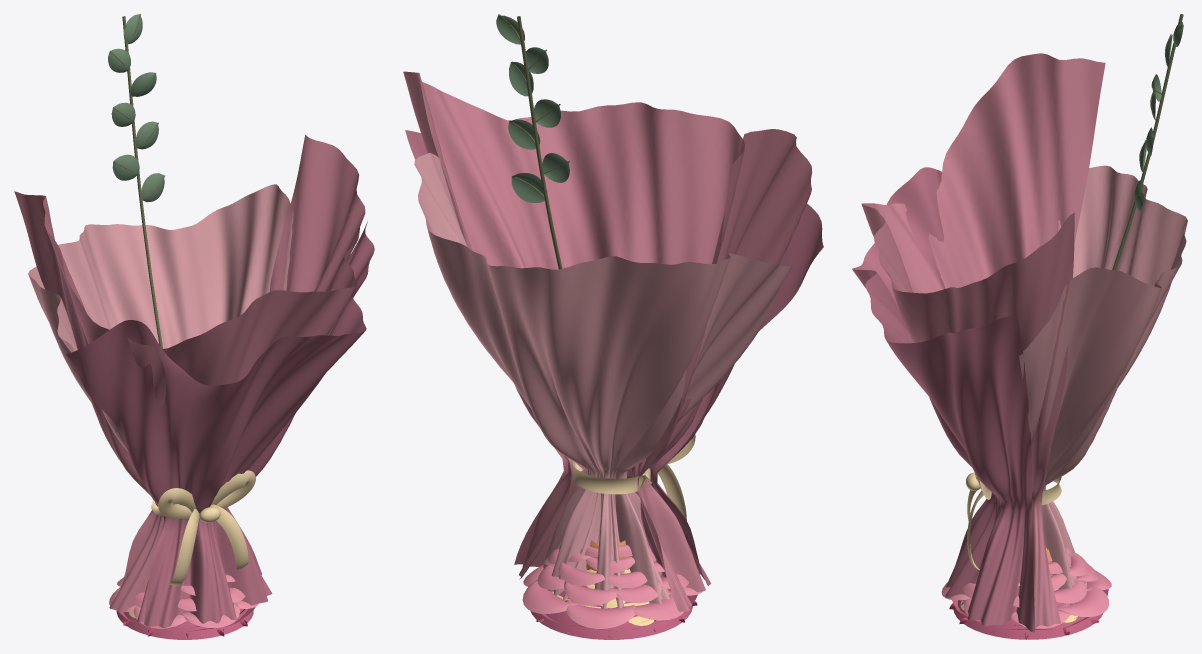
The model's file is bouquet.glb.
The picture shows the model from 3 angles, left to right: view 1: azimuth 30°, elevation 25°; view 2: azimuth 150°, elevation 25°; view 3: azimuth 270°, elevation 25°; orthographic projection. The views are drawn at different scales.
Visible parts, largest first — view 1: GEO · Розовый отворот.001, GEO · Передний лист бумаги.001, GEO · Задний лист бумаги.001, petals-rose, GEO · Эвкалипт 05 · ветка.001, GEO · Петля банта -1.001, GEO · Петля банта +1.001, GEO · Лента -1.001, GEO · Лента +1.001, GEO · Эвкалипт 05 · лист 2.001, GEO · Эвкалипт 05 · лист 1.001; view 2: GEO · Передний лист бумаги.001, GEO · Задний лист бумаги.001, petals-rose, GEO · Розовый отворот.001, GEO · Атлас вокруг стеблей.001, GEO · Эвкалипт 05 · ветка.001, GEO · Эвкалипт 05 · лист 1.001, GEO · Эвкалипт 05 · лист 3.001, GEO · Лента -1.001, GEO · Эвкалипт 05 · лист 2.001, GEO · Эвкалипт 05 · лист 4.001; view 3: GEO · Передний лист бумаги.001, GEO · Розовый отворот.001, GEO · Задний лист бумаги.001, petals-rose, GEO · Эвкалипт 05 · ветка.001.
Boxes of the visible parts, <box> form: GEO · Розовый отворот.001: <box>66,222,374,628</box>; GEO · Передний лист бумаги.001: <box>14,135,365,622</box>; GEO · Задний лист бумаги.001: <box>28,184,293,451</box>; petals-rose: <box>109,574,258,639</box>; GEO · Эвкалипт 05 · ветка.001: <box>122,16,162,348</box>; GEO · Петля банта -1.001: <box>158,488,196,519</box>; GEO · Петля банта +1.001: <box>210,470,255,508</box>; GEO · Лента -1.001: <box>168,509,199,585</box>; GEO · Лента +1.001: <box>210,504,248,571</box>; GEO · Эвкалипт 05 · лист 2.001: <box>112,154,139,180</box>; GEO · Эвкалипт 05 · лист 1.001: <box>141,173,164,202</box>; GEO · Передний лист бумаги.001: <box>403,71,812,611</box>; GEO · Задний лист бумаги.001: <box>414,153,792,608</box>; petals-rose: <box>522,542,701,639</box>; GEO · Розовый отворот.001: <box>405,130,823,585</box>; GEO · Атлас вокруг стеблей.001: <box>572,460,652,494</box>; GEO · Эвкалипт 05 · ветка.001: <box>517,16,562,269</box>; GEO · Эвкалипт 05 · лист 1.001: <box>511,173,547,202</box>; GEO · Эвкалипт 05 · лист 3.001: <box>508,119,540,149</box>; GEO · Лента -1.001: <box>657,464,686,520</box>; GEO · Эвкалипт 05 · лист 2.001: <box>542,153,569,182</box>; GEO · Эвкалипт 05 · лист 4.001: <box>534,99,560,127</box>; GEO · Передний лист бумаги.001: <box>861,53,1105,627</box>; GEO · Розовый отворот.001: <box>852,167,1035,632</box>; GEO · Задний лист бумаги.001: <box>1019,165,1187,603</box>; petals-rose: <box>941,547,1111,639</box>; GEO · Эвкалипт 05 · ветка.001: <box>1112,14,1183,270</box>.
Size of the model in its own units: 2.85 by 4.67 by 2.31.
